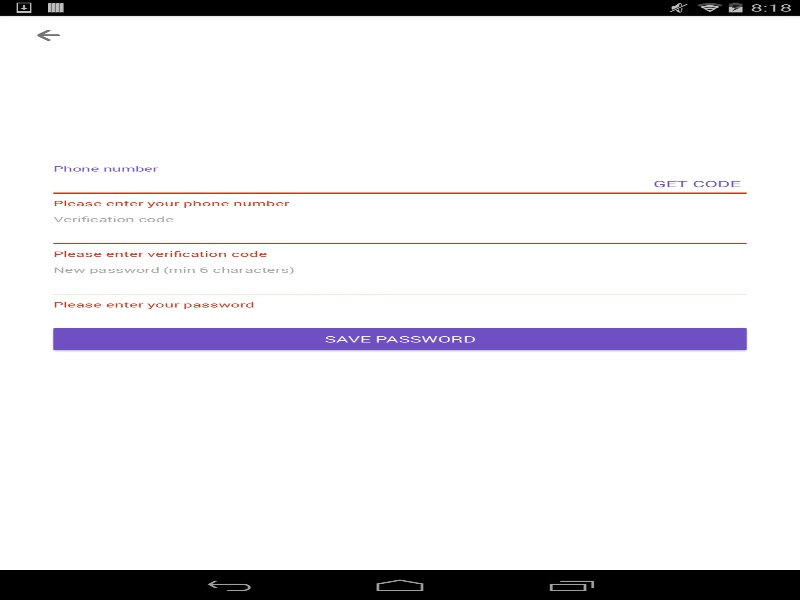Button: (48, 324, 752, 354), (10, 15, 85, 55)
Input: (48, 171, 752, 198), (48, 272, 752, 299), (48, 222, 752, 248)
